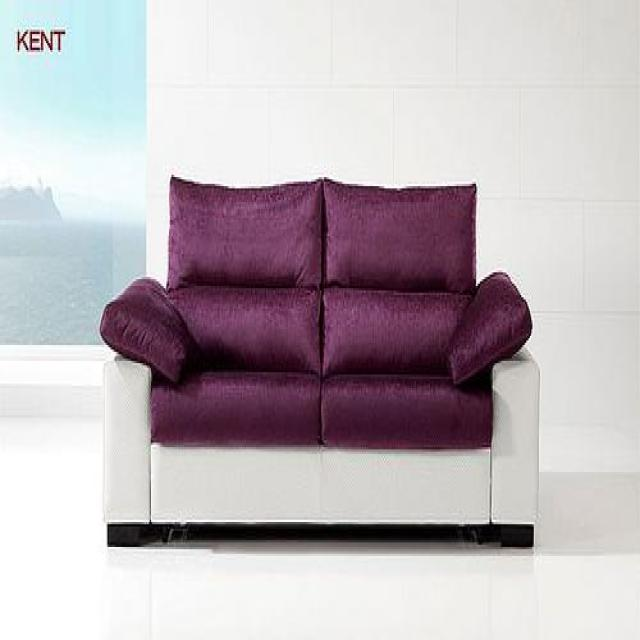sofa: (100, 171, 540, 547)
